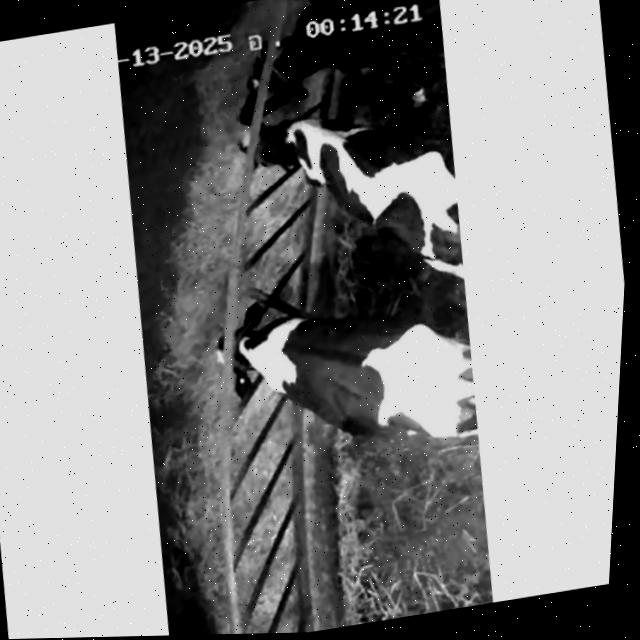eat: (174, 272, 351, 439), (206, 0, 396, 127), (204, 94, 370, 207)
